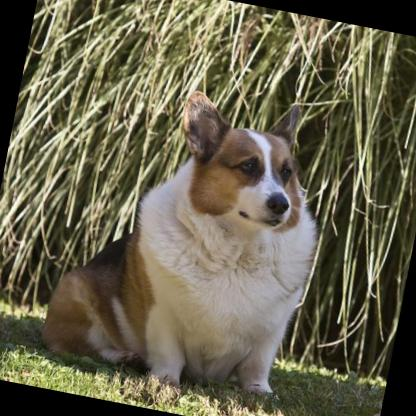Pembroke: (32, 62, 342, 410)
